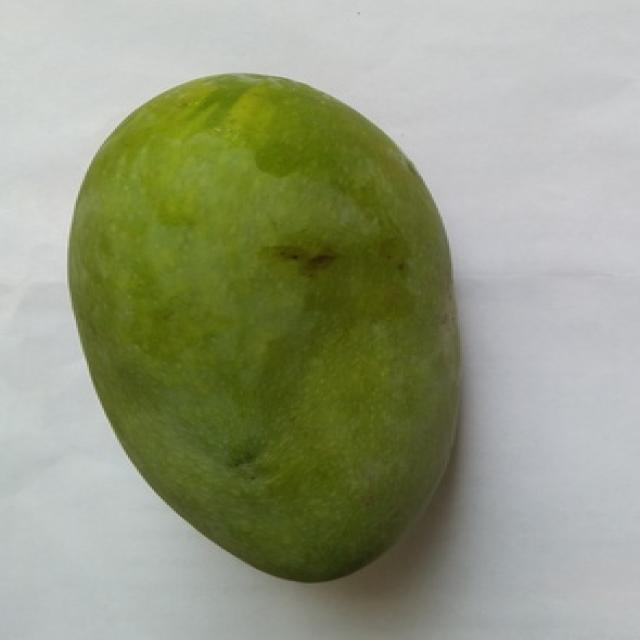Mango: (69, 74, 456, 581)
